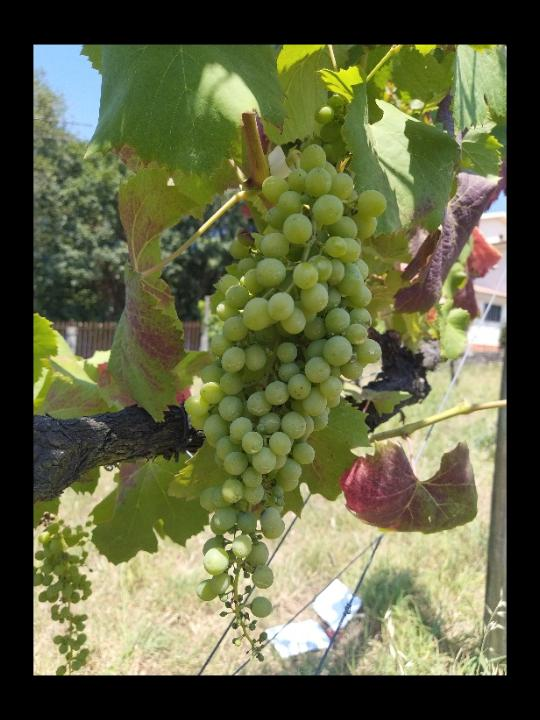grape: (184, 93, 384, 663), (36, 515, 102, 673)
